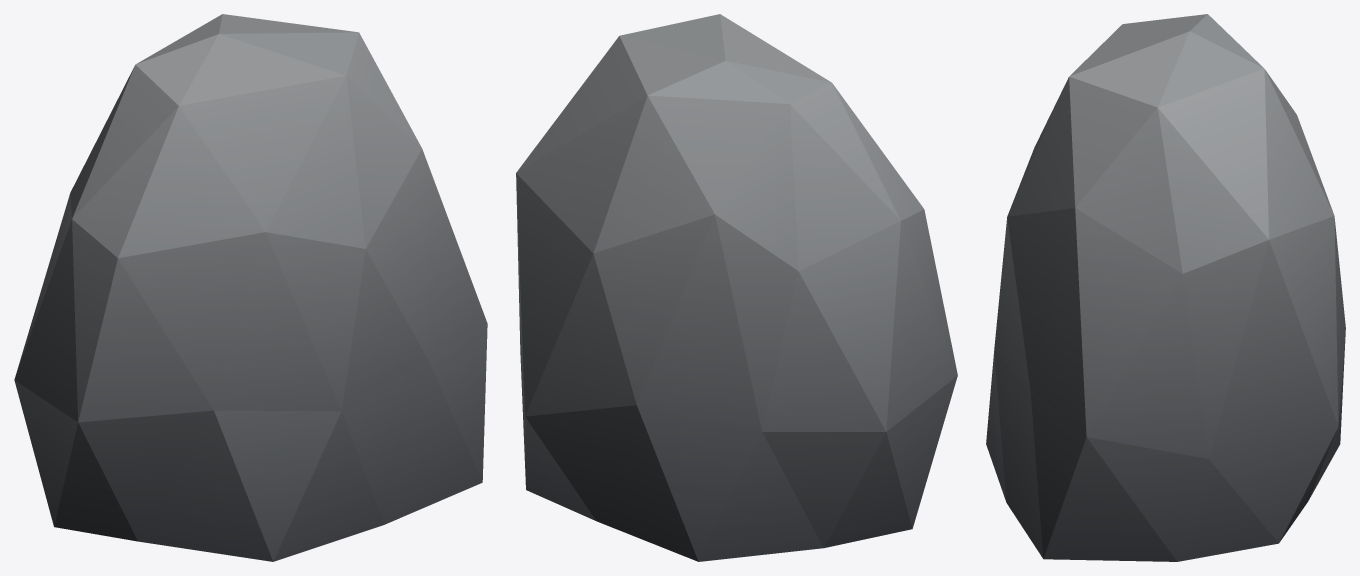
Rendered from Menhir.fbx.
The picture shows the model from 3 angles, left to right: view 1: azimuth 30°, elevation 25°; view 2: azimuth 150°, elevation 25°; view 3: azimuth 270°, elevation 25°; orthographic projection.
Parts seen in each view (by area): view 1: Menhir_LOD0; view 2: Menhir_LOD0; view 3: Menhir_LOD0.
Part boxes in pixels (<box>): Menhir_LOD0: <box>14,14,487,561</box>; Menhir_LOD0: <box>516,14,957,561</box>; Menhir_LOD0: <box>986,14,1345,561</box>.
Size of what is drawn, in the model's own units: 3.05 by 3.17 by 2.37.
1 material, 1 textured.
